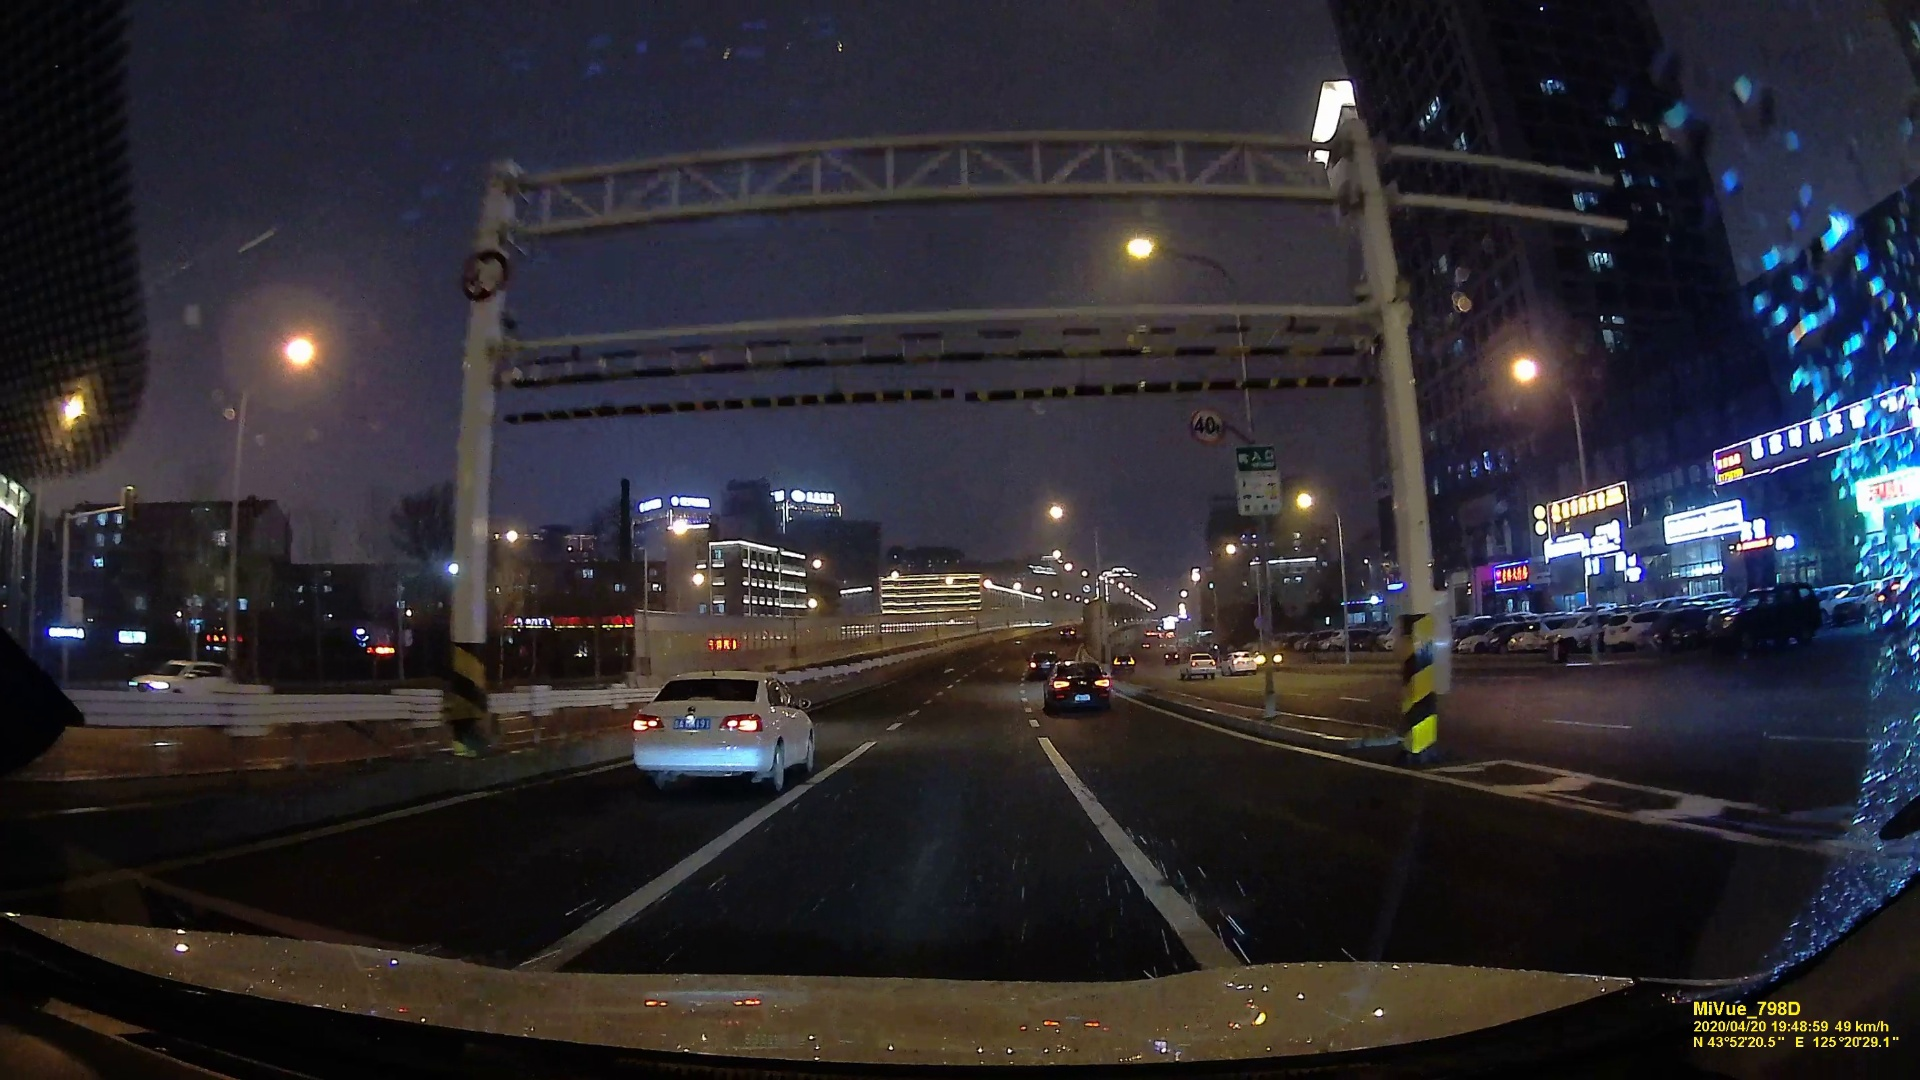traffic_sign: (1237, 448, 1283, 516), (1195, 409, 1225, 443)
vehicle: (629, 669, 822, 793), (124, 655, 233, 704), (1044, 659, 1113, 712), (1222, 651, 1257, 676), (1180, 653, 1215, 676)
